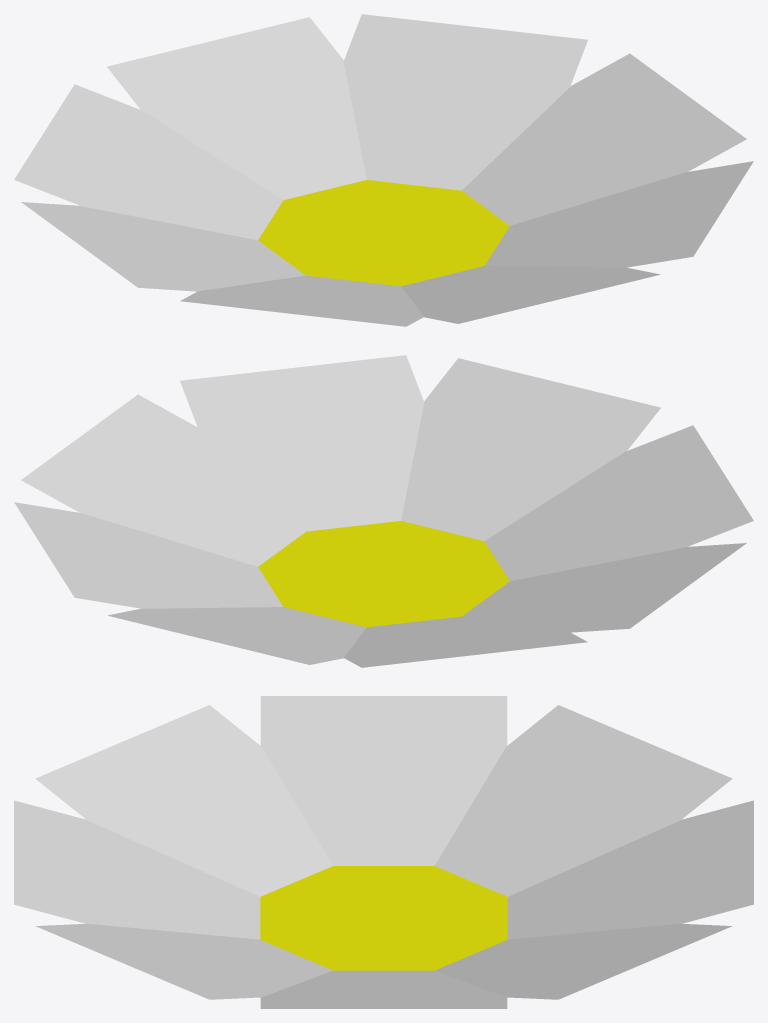
Rendered from flower_4.glb.
3 renders of one model, top to bottom at view 1: azimuth 30°, elevation 25°; view 2: azimuth 150°, elevation 25°; view 3: azimuth 270°, elevation 25°, orthographic. The views are drawn at different scales.
Parts seen in each view (by area): view 1: flower_4; view 2: flower_4; view 3: flower_4.
Part boxes in pixels (left/top/right/bottom): flower_4: left=14, top=14, right=753, bottom=326; flower_4: left=14, top=355, right=753, bottom=667; flower_4: left=14, top=696, right=753, bottom=1008.
Bounding box in the file's own units: 0.4262 × 0.0419 × 0.4262.
